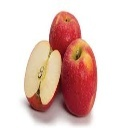apple: (23, 40, 62, 112)
